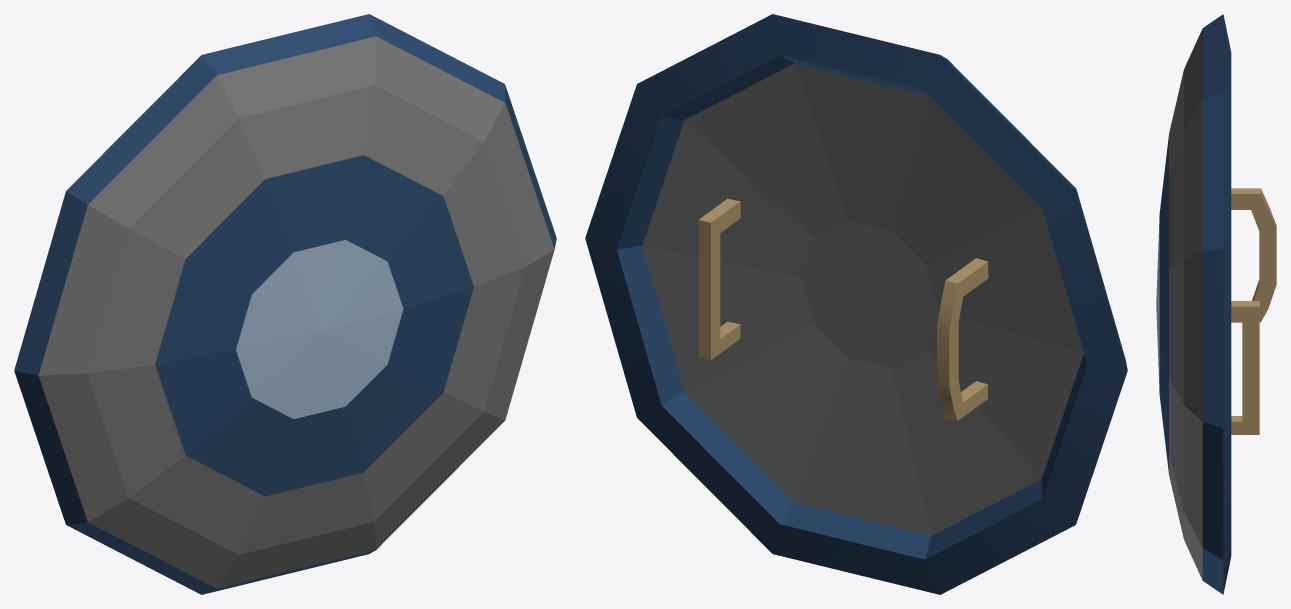
The model's file is ShieldBuckler.fbx.
The picture shows the model from 3 angles, left to right: view 1: azimuth 30°, elevation 25°; view 2: azimuth 150°, elevation 25°; view 3: azimuth 270°, elevation 25°; orthographic projection. The views are drawn at different scales.
Visible parts, largest first — view 1: ShieldBuckler; view 2: ShieldBuckler; view 3: ShieldBuckler.
Part boxes in pixels (x1=…): ShieldBuckler: x1=14, y1=14, x2=556, y2=594; ShieldBuckler: x1=585, y1=14, x2=1127, y2=594; ShieldBuckler: x1=1156, y1=14, x2=1276, y2=594.
Bounding box in the file's own units: 1.35 × 1.28 × 0.2781.
